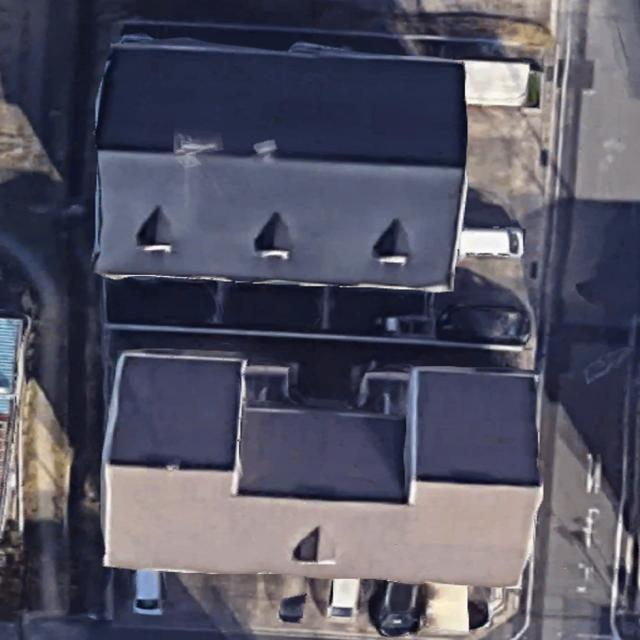Batiment: (103, 351, 541, 586), (96, 41, 467, 291)
